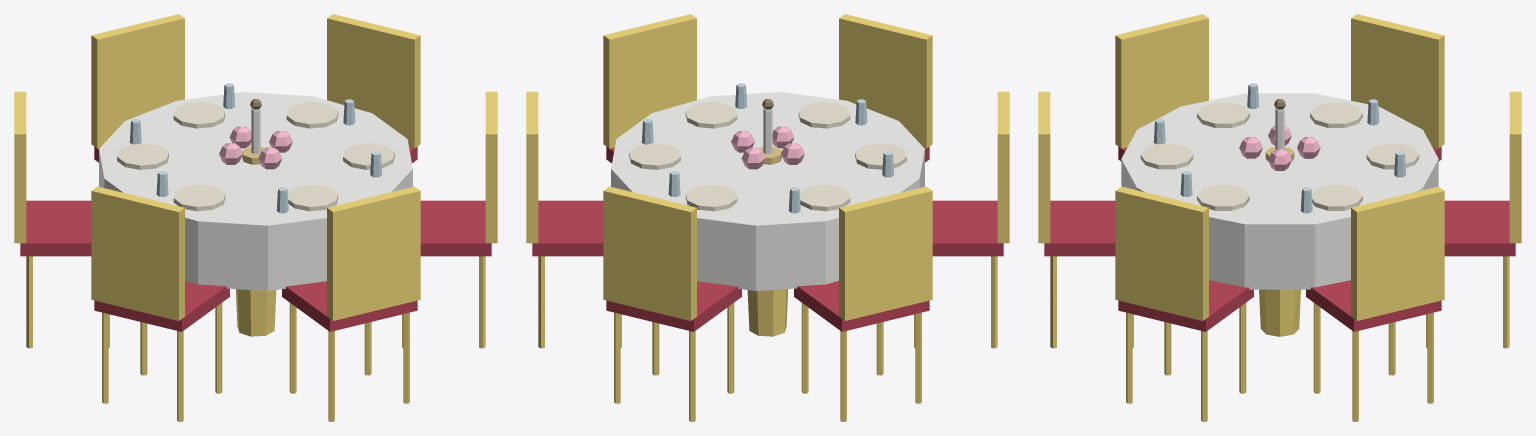
File: CR_MesaRedonda.fbx
3 renders of one model, left to right at view 1: azimuth 30°, elevation 25°; view 2: azimuth 150°, elevation 25°; view 3: azimuth 270°, elevation 25°, orthographic.
Visible parts, largest first — view 1: CR_MesaRedonda; view 2: CR_MesaRedonda; view 3: CR_MesaRedonda.
Part boxes in pixels (box(x1,y1,x2,y2)): CR_MesaRedonda: box(14, 14, 497, 421); CR_MesaRedonda: box(526, 14, 1009, 421); CR_MesaRedonda: box(1038, 14, 1521, 421).
Size of the model in its own units: 1.95 by 1.05 by 2.01.
